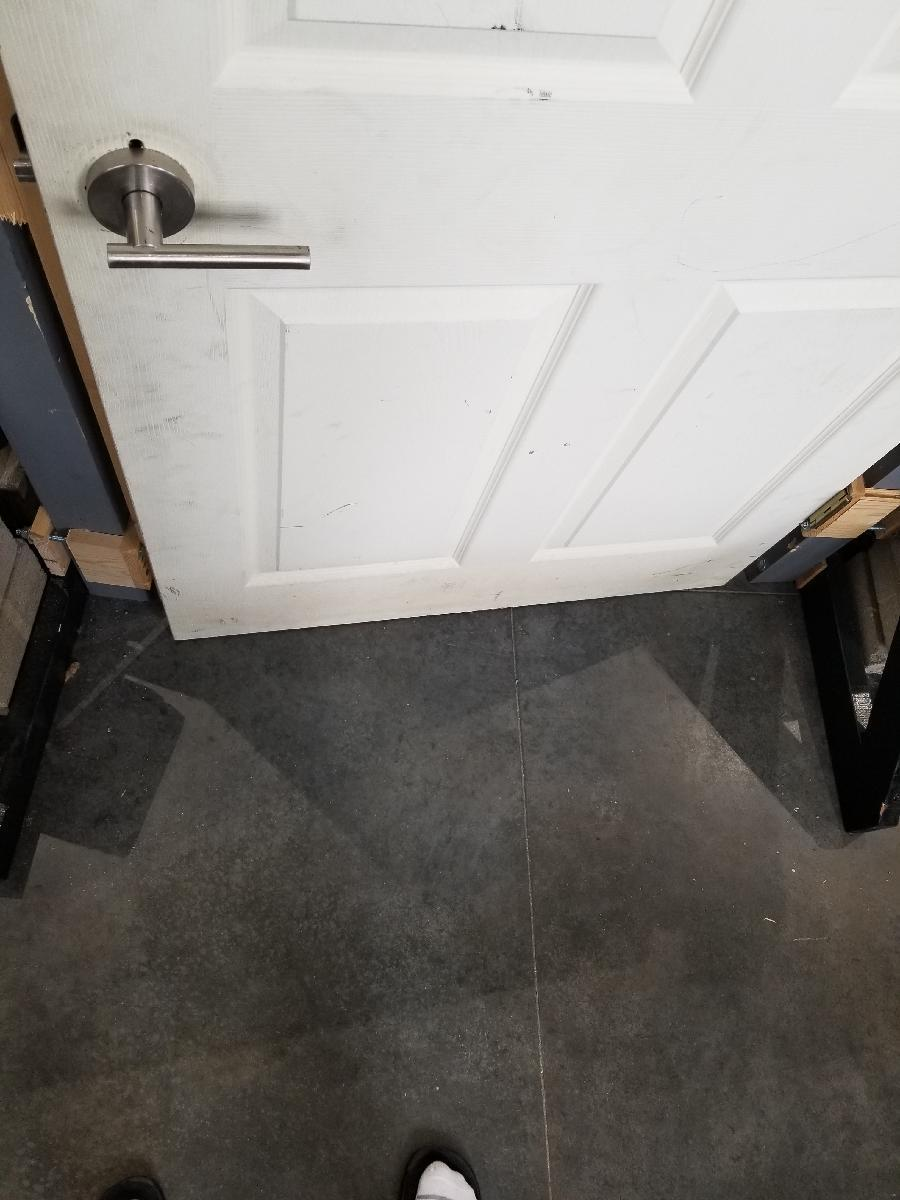door: (13, 3, 891, 641)
handle: (80, 136, 314, 282)
